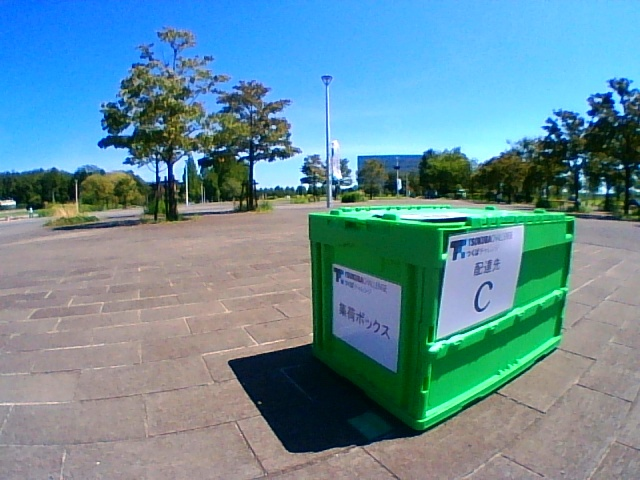green_box: (308, 204, 575, 430)
tag_c: (460, 253, 499, 313)
